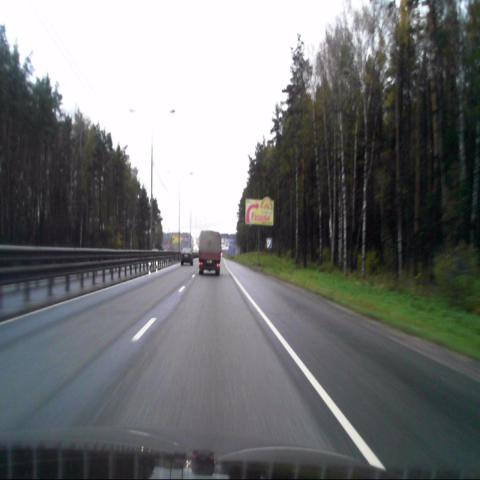5_15_3: (265, 237, 272, 249)
